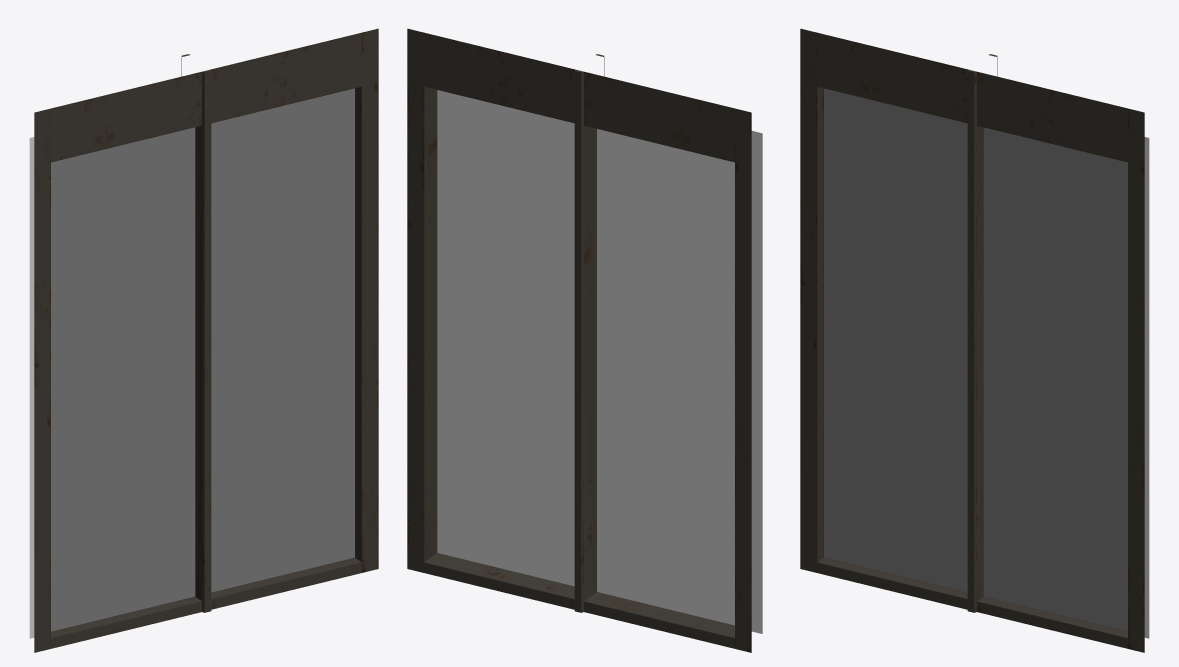
Rendered from Metal_FullWindow.glb.
The picture shows the model from 3 angles, left to right: view 1: azimuth 30°, elevation 25°; view 2: azimuth 150°, elevation 25°; view 3: azimuth 330°, elevation 25°; orthographic projection.
Visible parts, largest first — view 1: Metal_FullWindow; view 2: Metal_FullWindow; view 3: Metal_FullWindow.
Boxes of the visible parts, box(x1,y1,x2,y2) form: Metal_FullWindow: box(29, 28, 378, 652); Metal_FullWindow: box(407, 28, 762, 652); Metal_FullWindow: box(800, 28, 1149, 652).
Size of the model in its own units: 2 by 3 by 0.2311.
3 materials, 1 textured.
